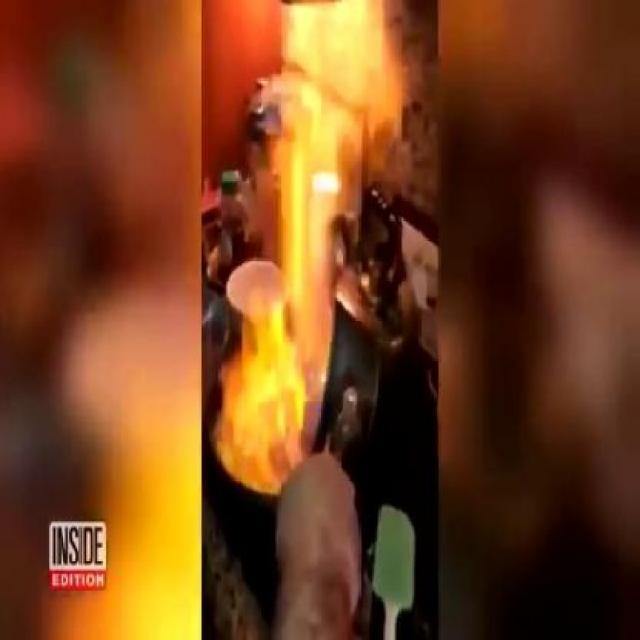fire: (279, 76, 336, 373)
